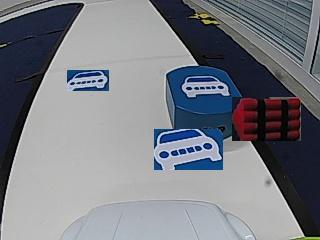safety: (180, 74, 230, 97)
